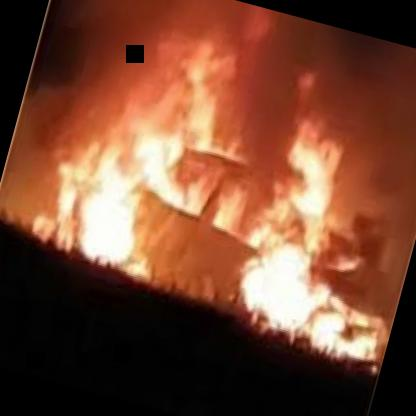fire: (76, 3, 370, 326)
